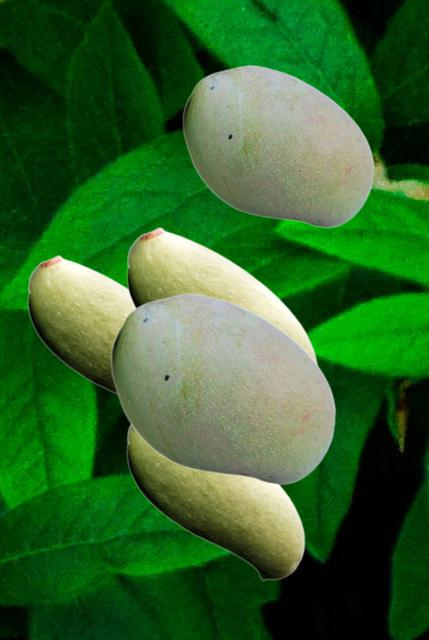green_mango: (110, 292, 335, 484), (182, 64, 373, 227), (126, 425, 304, 580), (126, 226, 317, 362), (27, 254, 132, 394)
